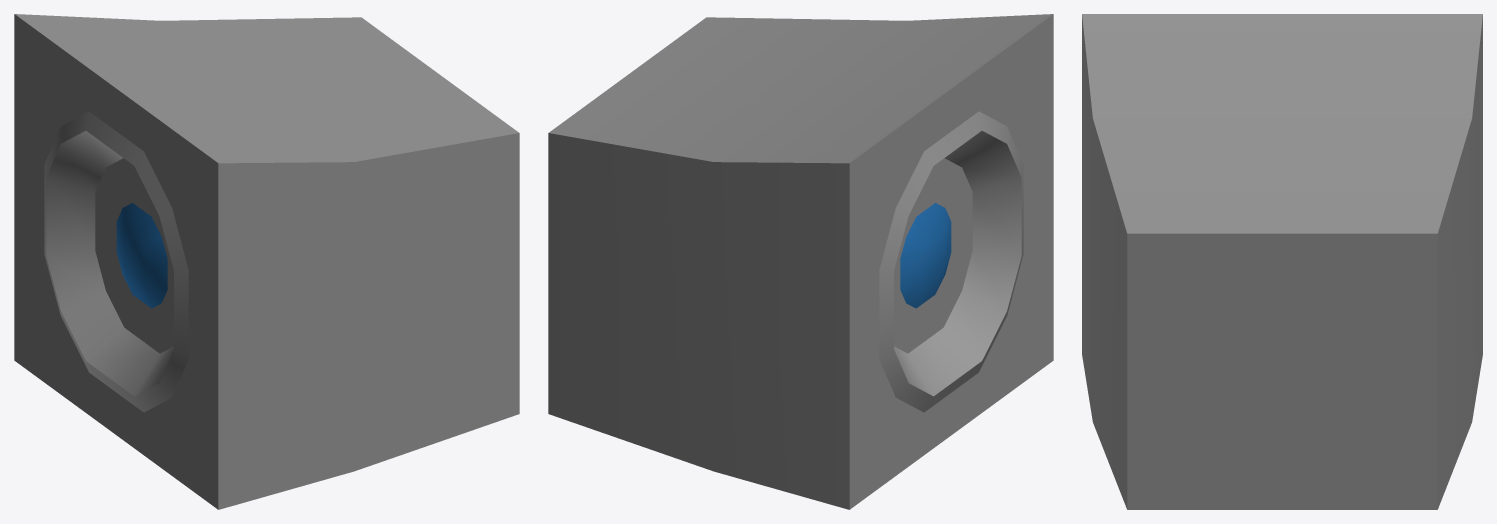
Rendered from speaker - Copy.fbx.
The picture shows the model from 3 angles, left to right: view 1: azimuth 30°, elevation 25°; view 2: azimuth 150°, elevation 25°; view 3: azimuth 270°, elevation 25°; orthographic projection.
Visible parts, largest first — view 1: speaker; view 2: speaker; view 3: speaker.
Part boxes in pixels (box(x1,y1,x2,y2)): speaker: box(14, 14, 519, 509); speaker: box(548, 14, 1053, 509); speaker: box(1082, 14, 1482, 509).
Bounding box in the file's own units: 0.7625 × 0.7645 × 0.8156.
